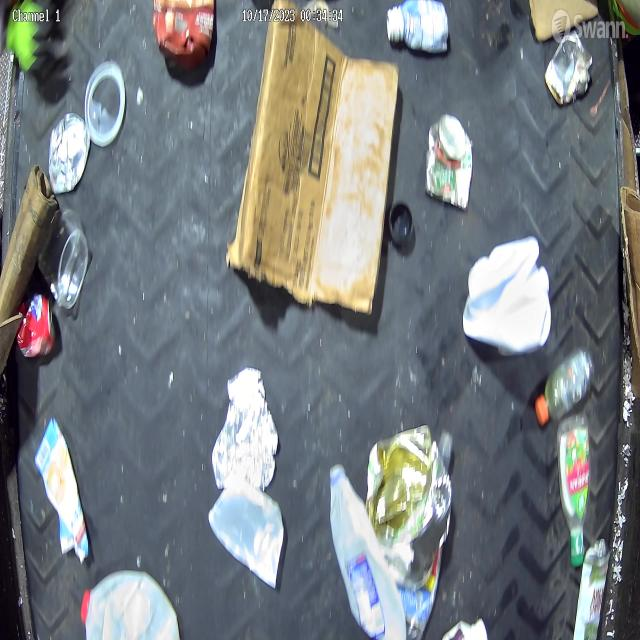can: (365, 424, 452, 588), (424, 113, 475, 210), (546, 27, 595, 107), (48, 110, 92, 198), (17, 288, 57, 360)
milk_jug: (328, 462, 407, 638), (462, 236, 552, 356), (80, 569, 182, 640)
non_white_jug: (153, 0, 214, 70)
plastic_bottle: (556, 416, 593, 566), (538, 349, 594, 423), (572, 539, 609, 640)
